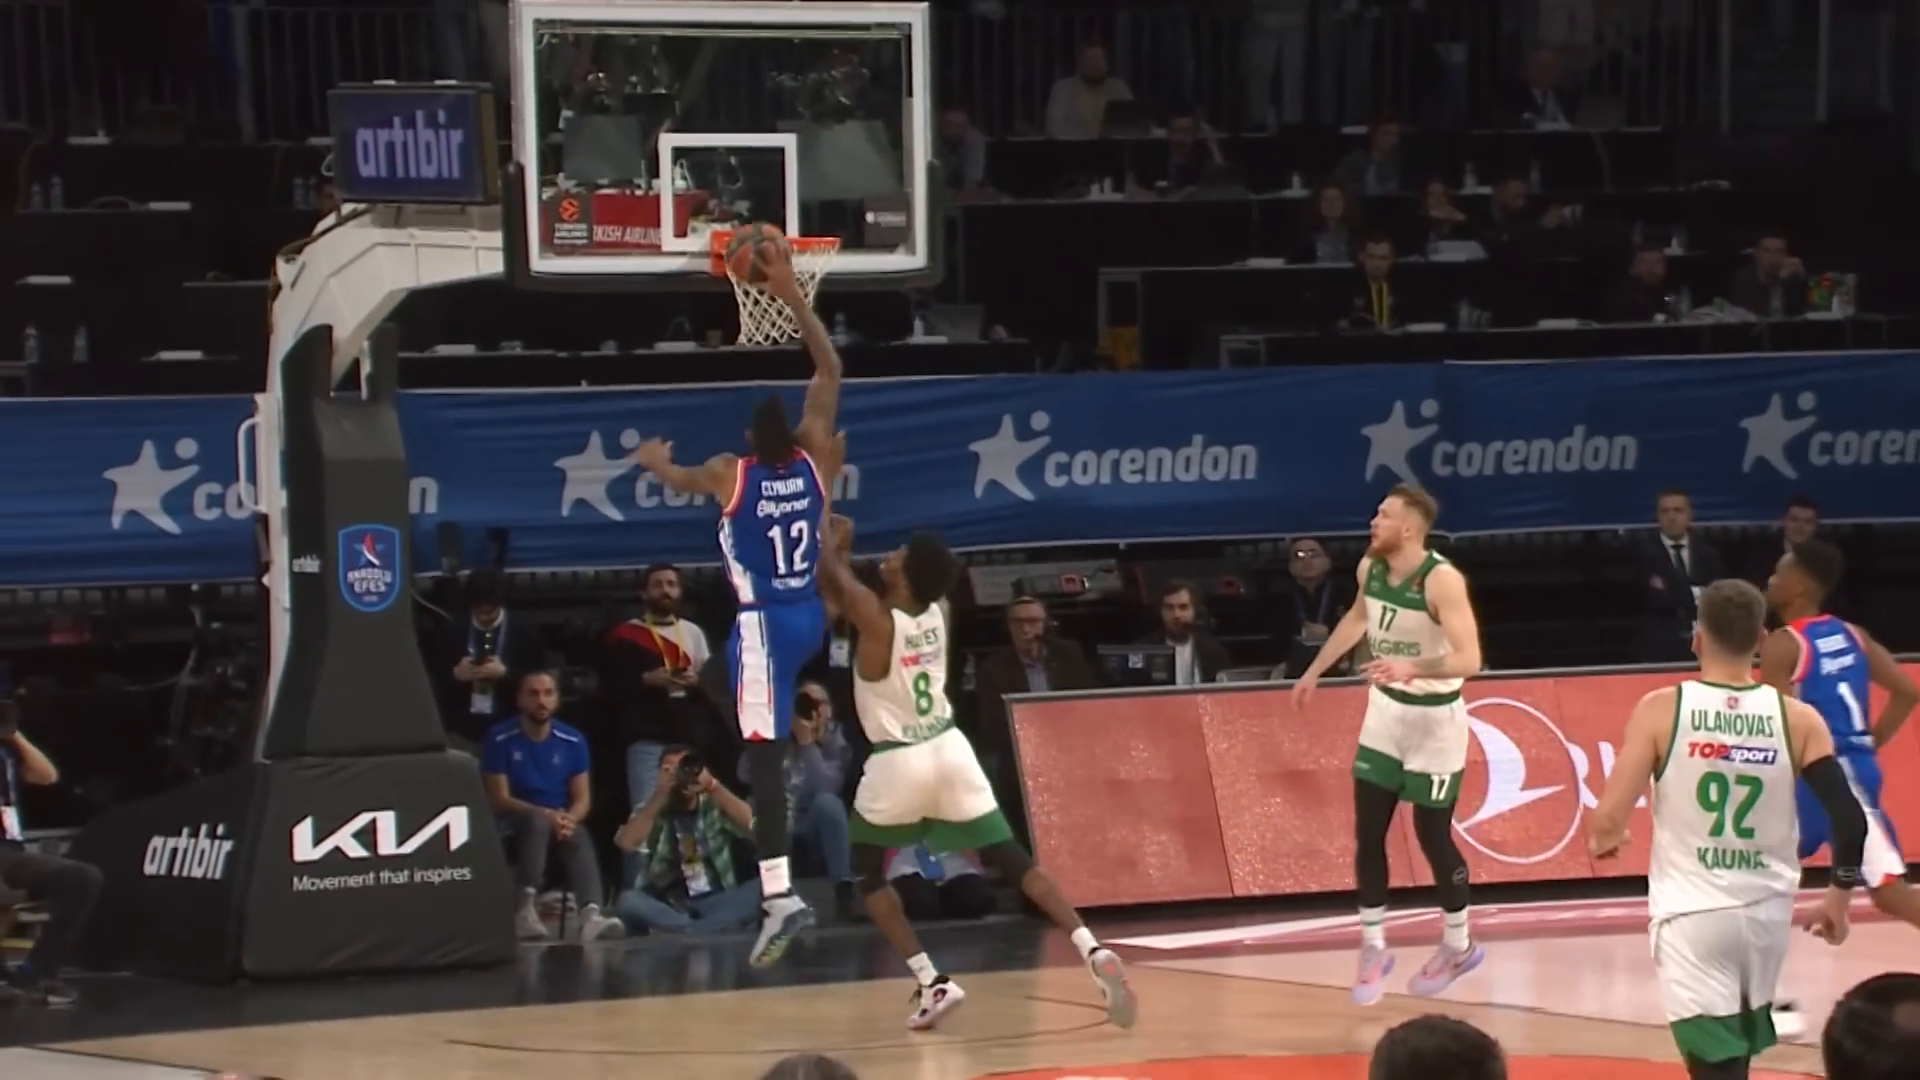ball: (723, 220, 796, 287)
net: (721, 231, 841, 348)
